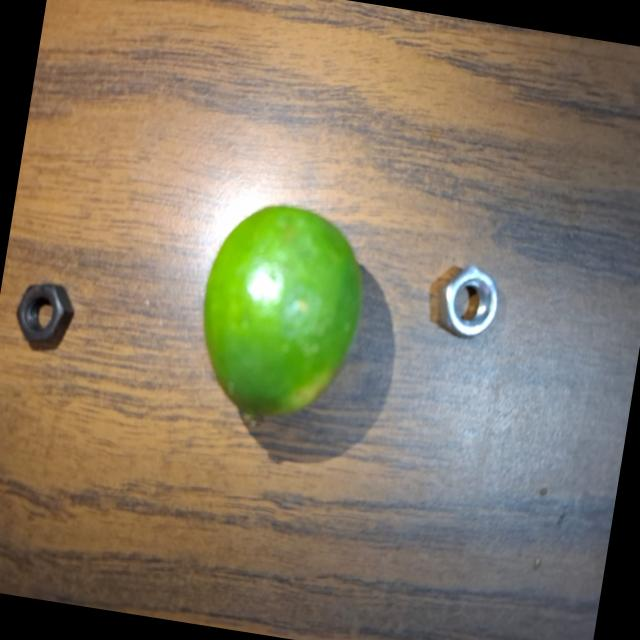limon: (182, 193, 375, 445)
milimetrico: (8, 266, 76, 348)
tuerca: (420, 255, 508, 348)
